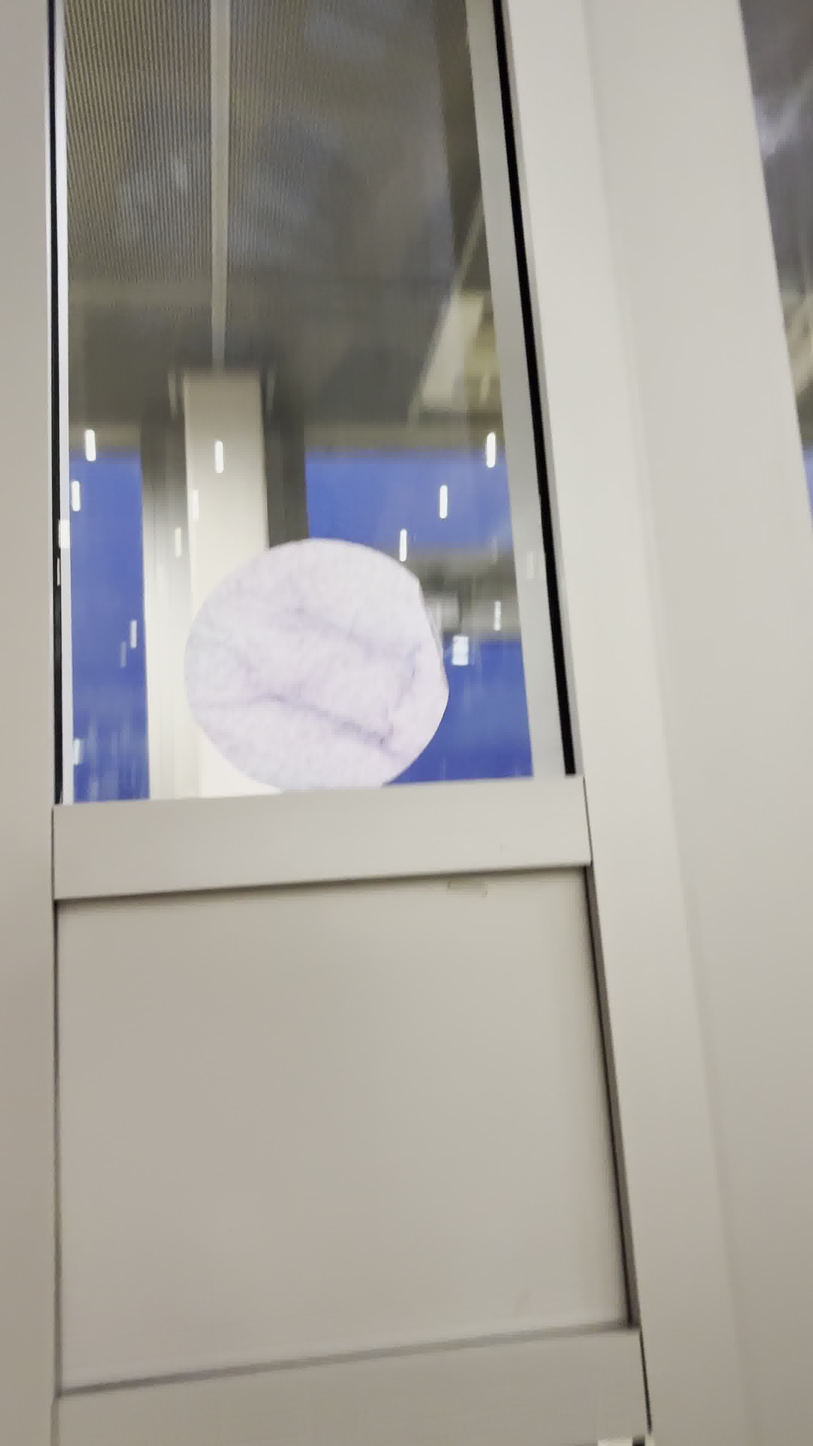Target: (178, 534, 454, 794)
